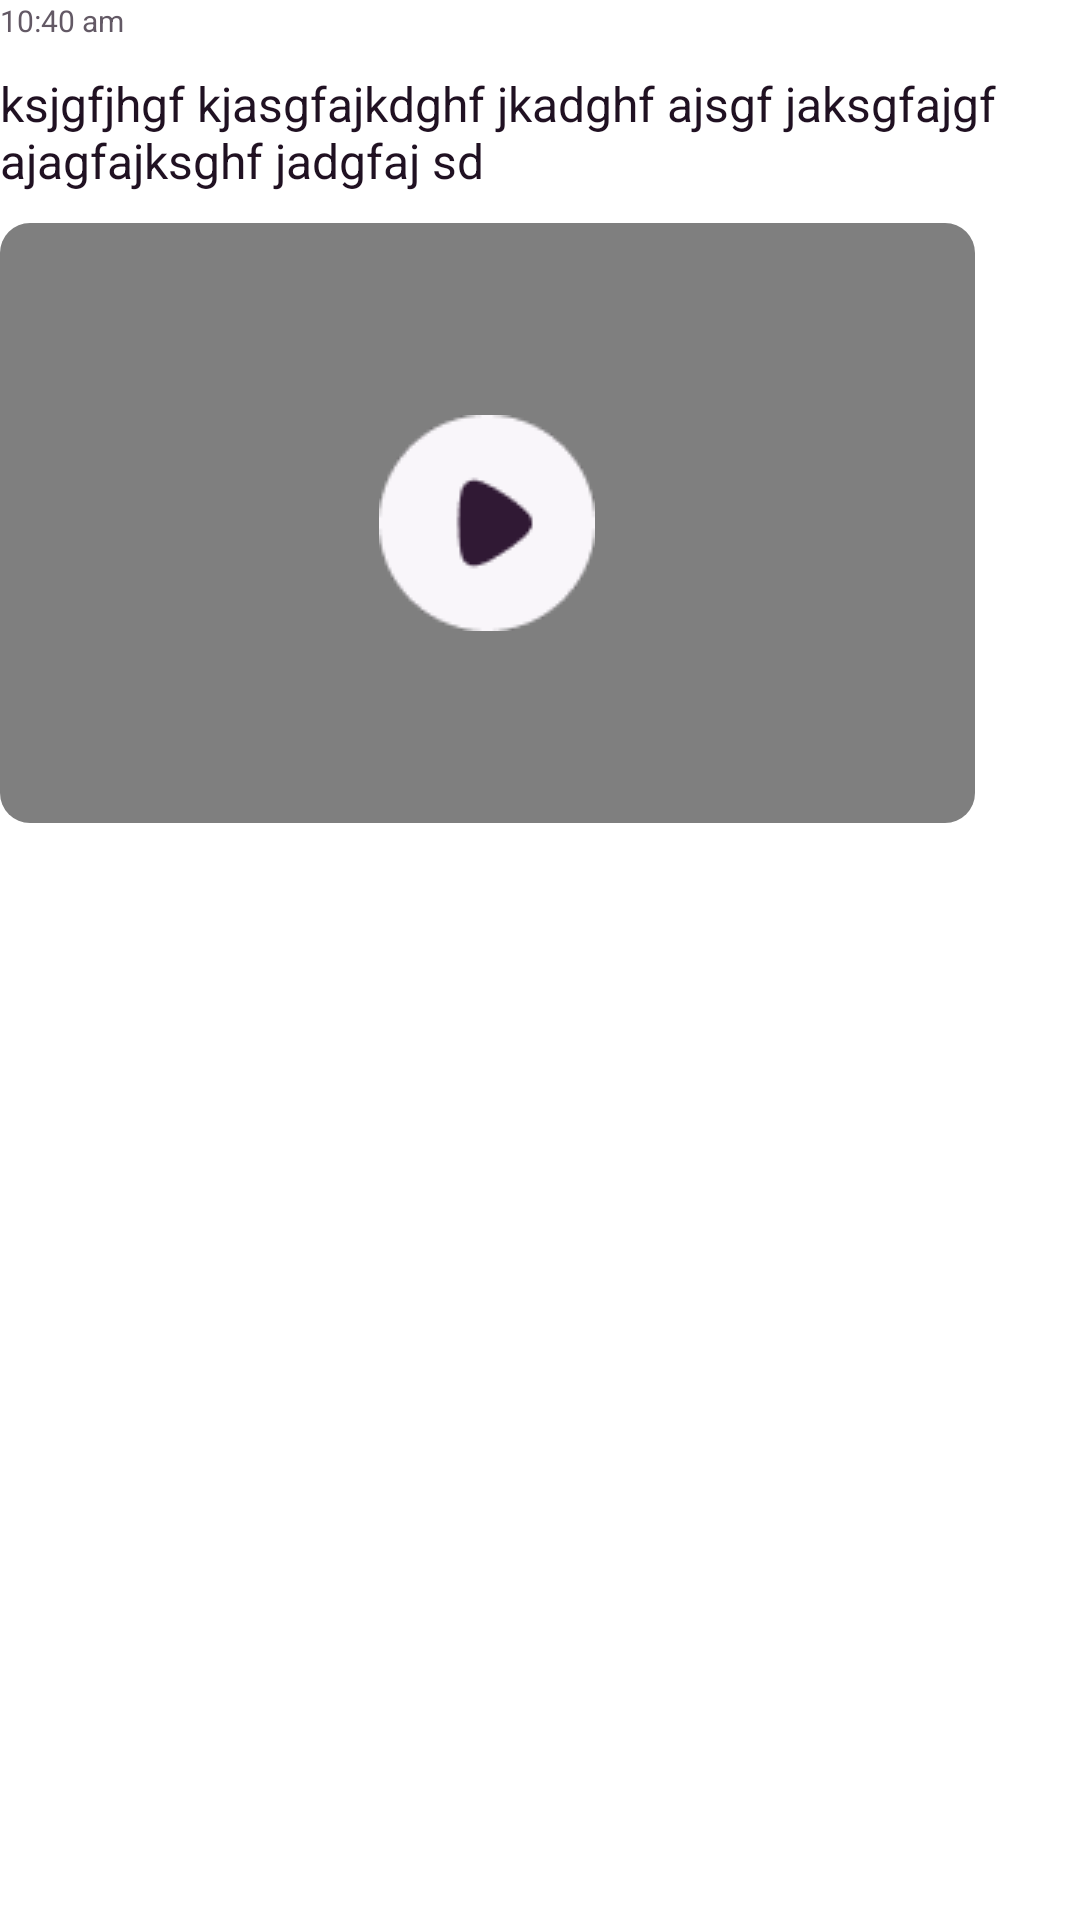

Where icons sit on this 1080 × 1920 app screen, as (x1, y1, x2, y2):
play: (379, 415, 595, 631)
